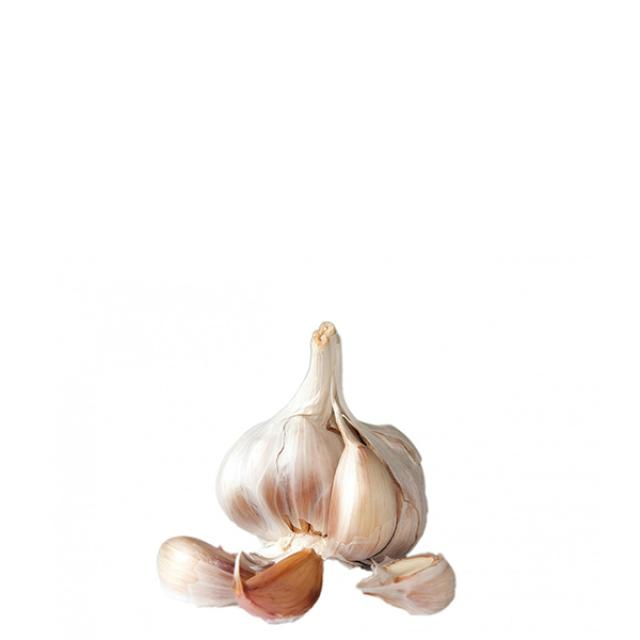garlic: (195, 383, 457, 563)
